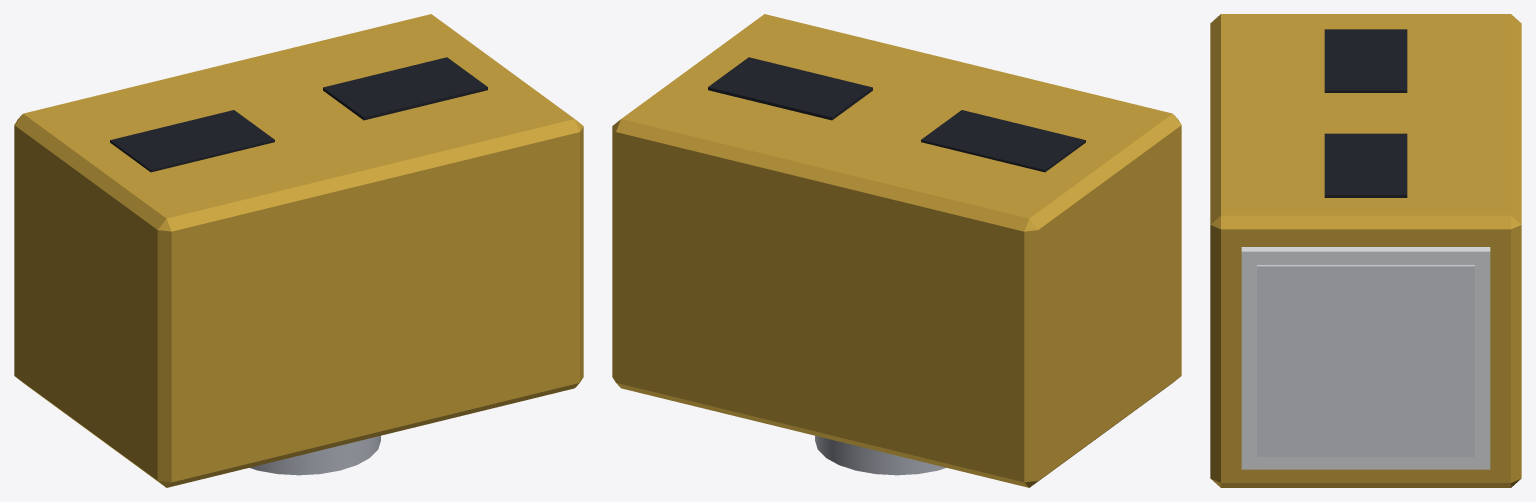
The picture shows the model from 3 angles, left to right: view 1: azimuth 30°, elevation 25°; view 2: azimuth 150°, elevation 25°; view 3: azimuth 270°, elevation 25°; orthographic projection.
Visible parts, largest first — view 1: ir_body, ir_ap2_surround, ir_ap1_surround, ir_actuator; view 2: ir_body, ir_ap2_surround, ir_ap1_surround, ir_actuator; view 3: ir_body, ir_louver, ir_radiator, ir_ap2_surround, ir_ap1_surround.
Part boxes in pixels (box(x1,y1,x2,y2)): ir_body: box(14, 14, 583, 487); ir_ap2_surround: box(323, 57, 487, 120); ir_ap1_surround: box(110, 110, 274, 172); ir_actuator: box(249, 435, 380, 475); ir_body: box(612, 14, 1181, 487); ir_ap2_surround: box(708, 57, 872, 120); ir_ap1_surround: box(921, 110, 1085, 172); ir_actuator: box(815, 435, 946, 475); ir_body: box(1210, 14, 1521, 487); ir_louver: box(1257, 265, 1474, 456); ir_radiator: box(1241, 247, 1490, 469); ir_ap2_surround: box(1324, 133, 1407, 197); ir_ap1_surround: box(1324, 29, 1407, 92).
Size of the model in its own units: 0.4925 by 0.3524 by 0.3.
